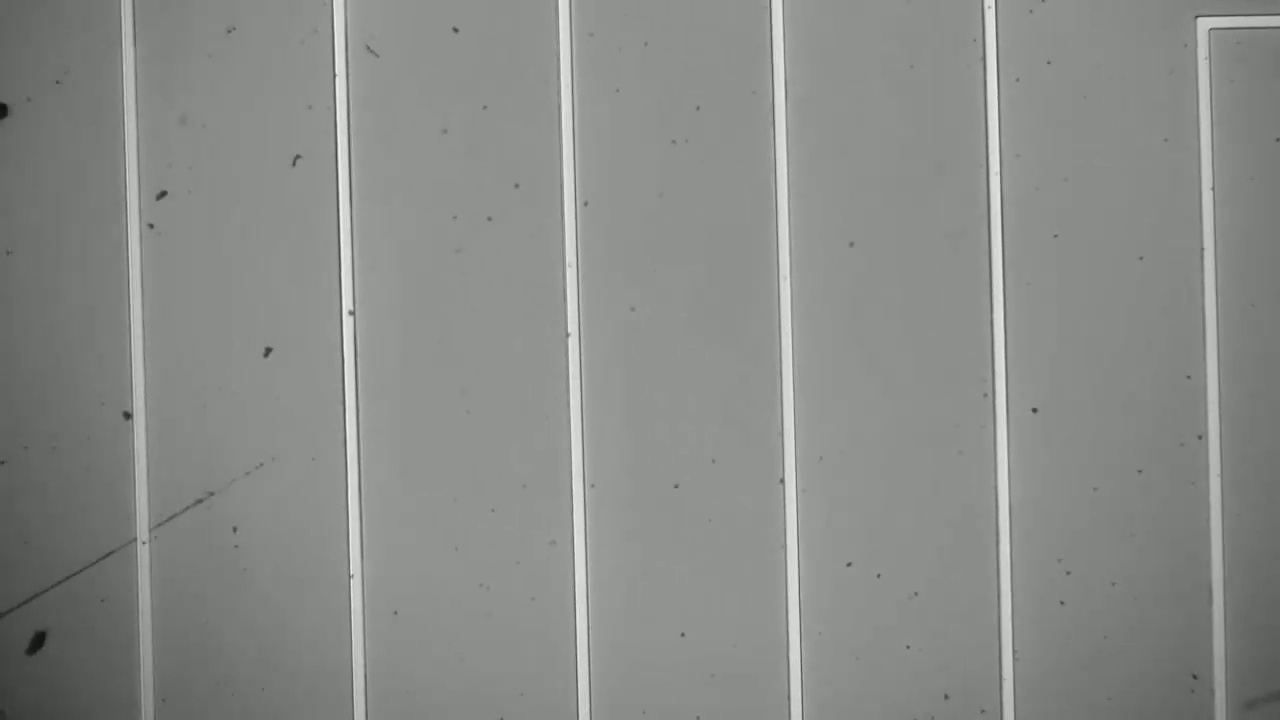scratch: (0, 457, 265, 622)
